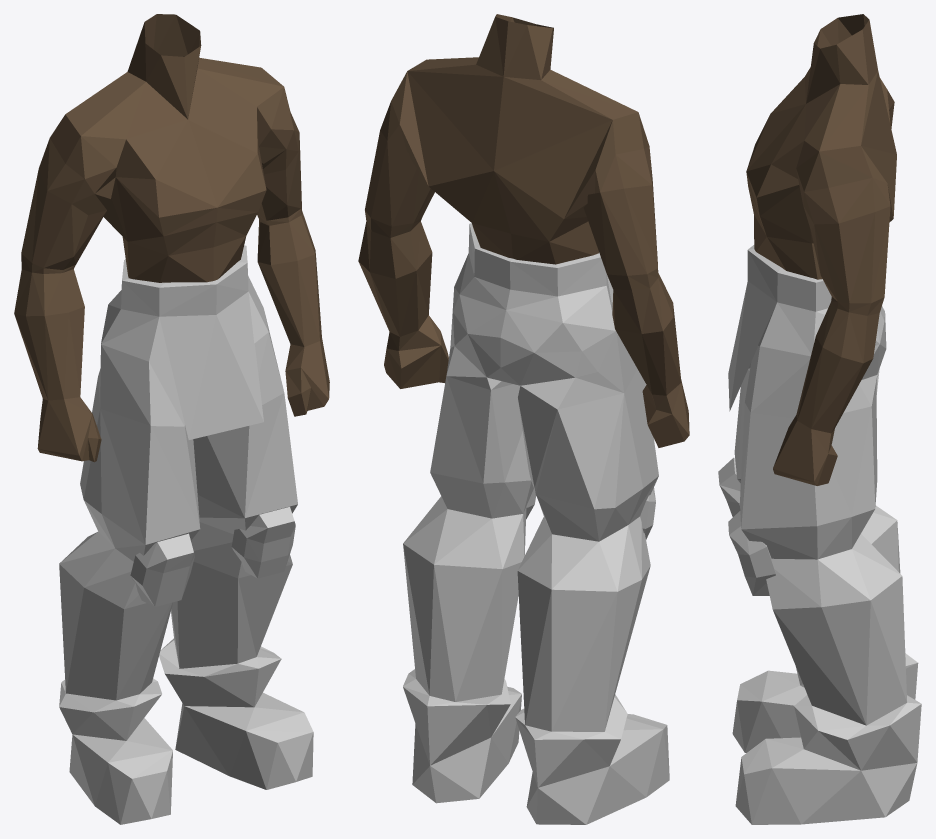
The model's file is ARMOR_PRISONER.OBJ.
3 views of the same model, side by side, from view 1: azimuth 30°, elevation 25°; view 2: azimuth 150°, elevation 25°; view 3: azimuth 270°, elevation 25° (orthographic). The views are drawn at different scales.
Visible parts, largest first — view 1: ARMOR_PRISONER; view 2: ARMOR_PRISONER; view 3: ARMOR_PRISONER.
Boxes of the visible parts, x1,y1,x2,y2 form: ARMOR_PRISONER: [14, 14, 329, 824]; ARMOR_PRISONER: [358, 14, 689, 824]; ARMOR_PRISONER: [718, 14, 921, 824].
Bounding box in the file's own units: 0.6887 × 1.68 × 0.4084.
